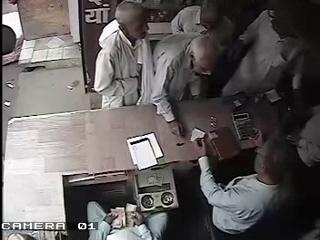Normal: (148, 3, 235, 136), (194, 134, 294, 240), (170, 1, 222, 34)
shoplifting: (92, 0, 152, 110)
